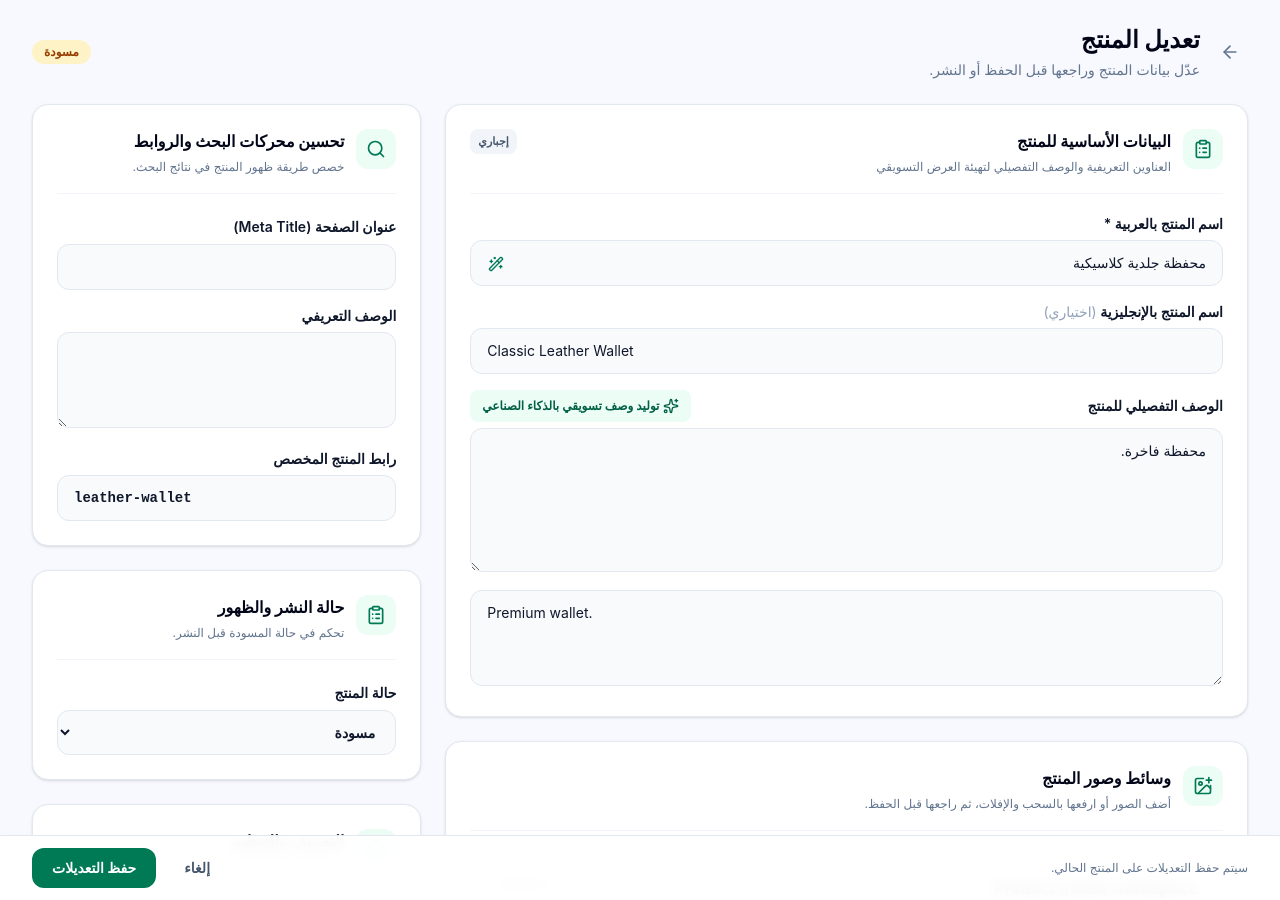
Test: shared product editor detail route › persists edits and always releases the save busy state after success
This screenshot has width=1280, height=900.
Replace the text in the field with test id "product-name-en" with "Updated Wallet": (847, 351) [470,328,1223,374]
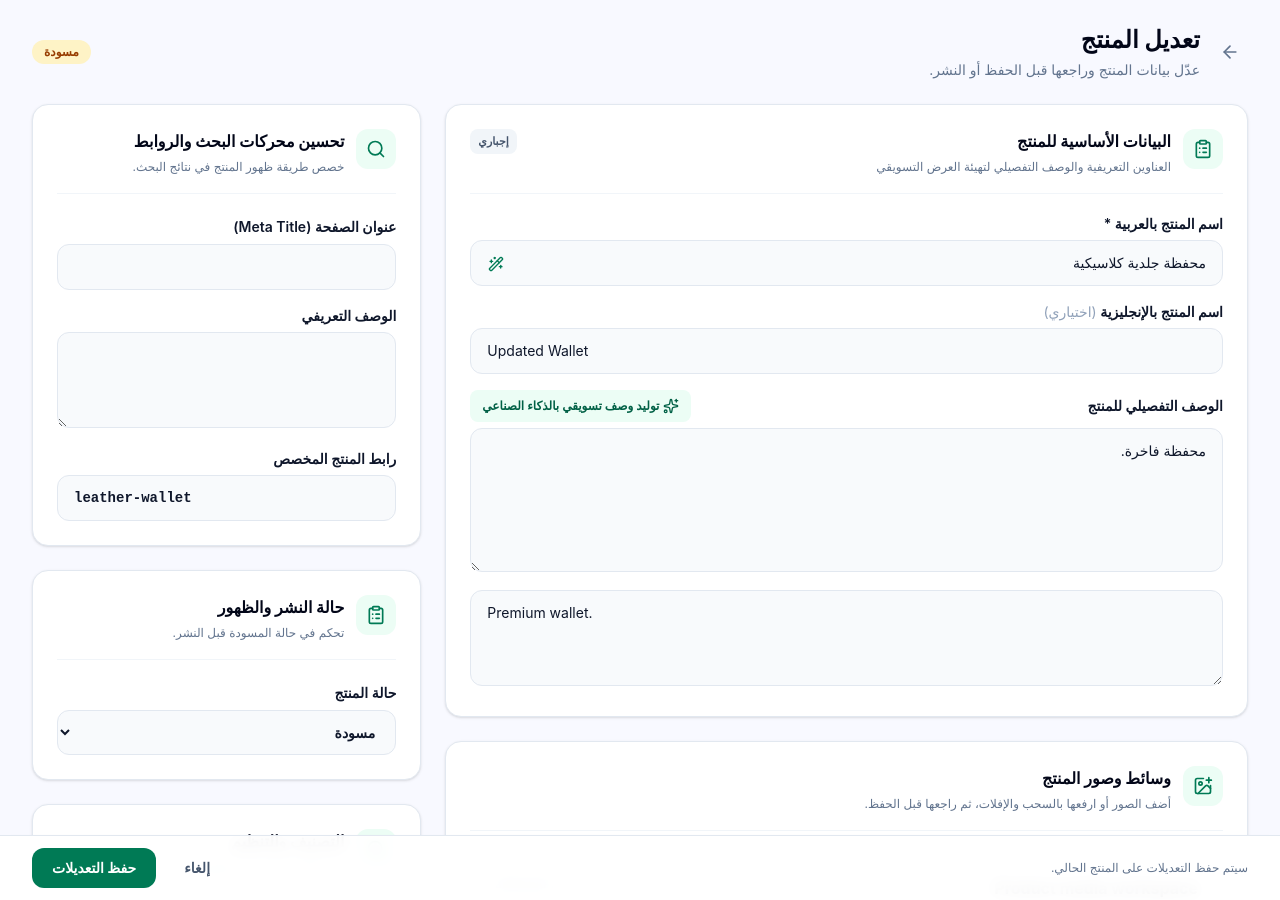
Click the button "حفظ التعديلات": click(94, 868) [32,848,156,888]
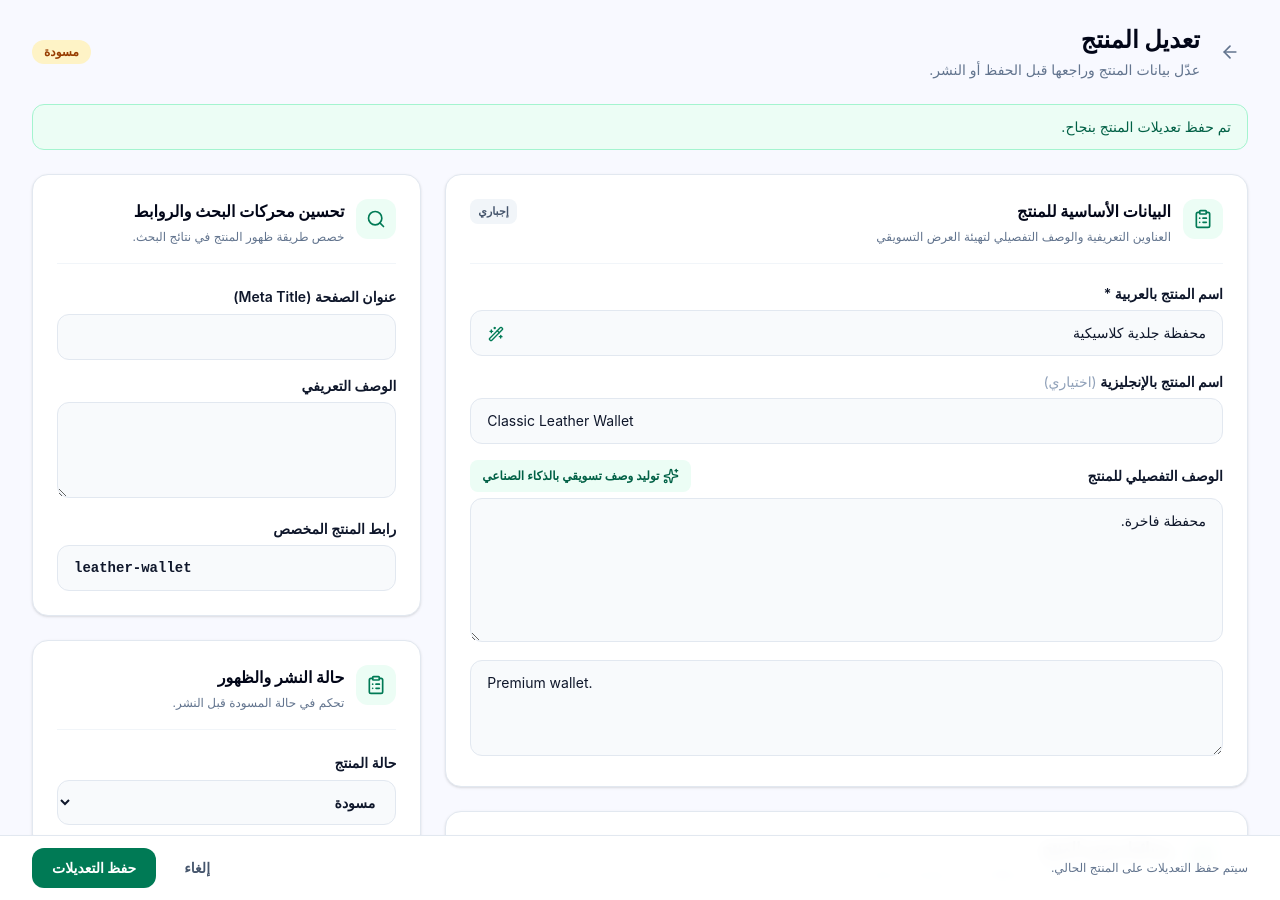
Check: the message shows "تم حفظ تعديلات المنتج بنجاح", box [1061,118,1231,135]
